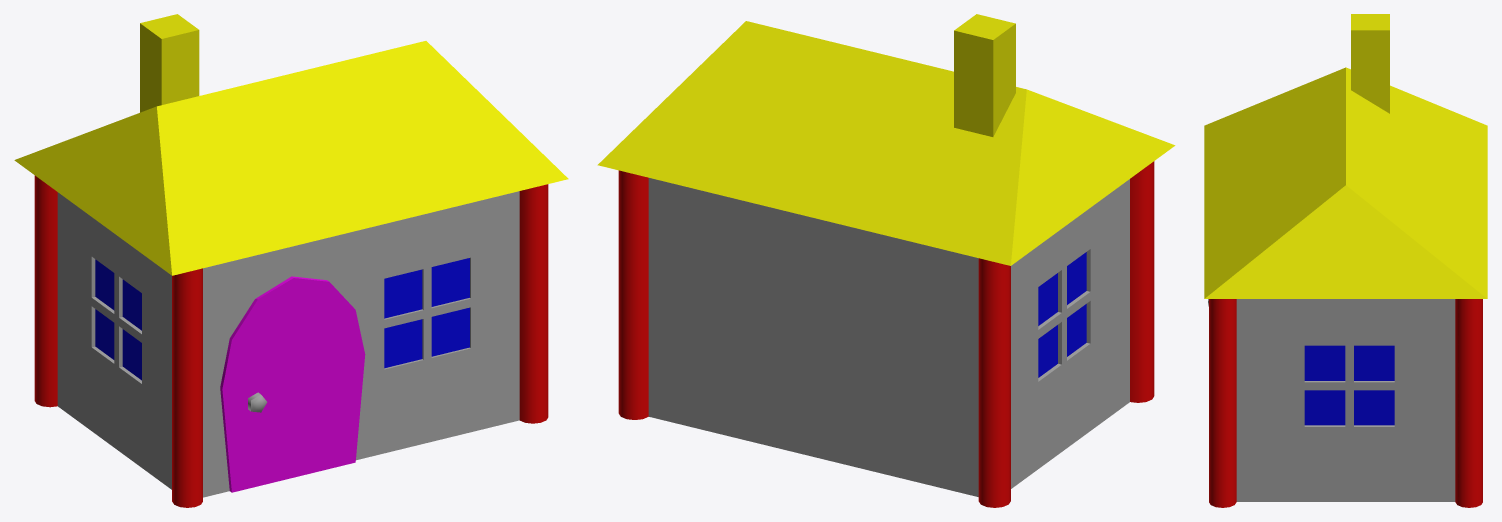
The model's file is House2.fbx.
3 views of the same model, side by side, from view 1: azimuth 30°, elevation 25°; view 2: azimuth 150°, elevation 25°; view 3: azimuth 270°, elevation 25° (orthographic). The views are drawn at different scales.
Parts seen in each view (by area): view 1: House2; view 2: House2; view 3: House2.
Part boxes in pixels (<box>): House2: <box>14,14,568,507</box>; House2: <box>597,14,1175,507</box>; House2: <box>1204,14,1487,507</box>.
Size of the model in its own units: 515 by 495 by 356.
